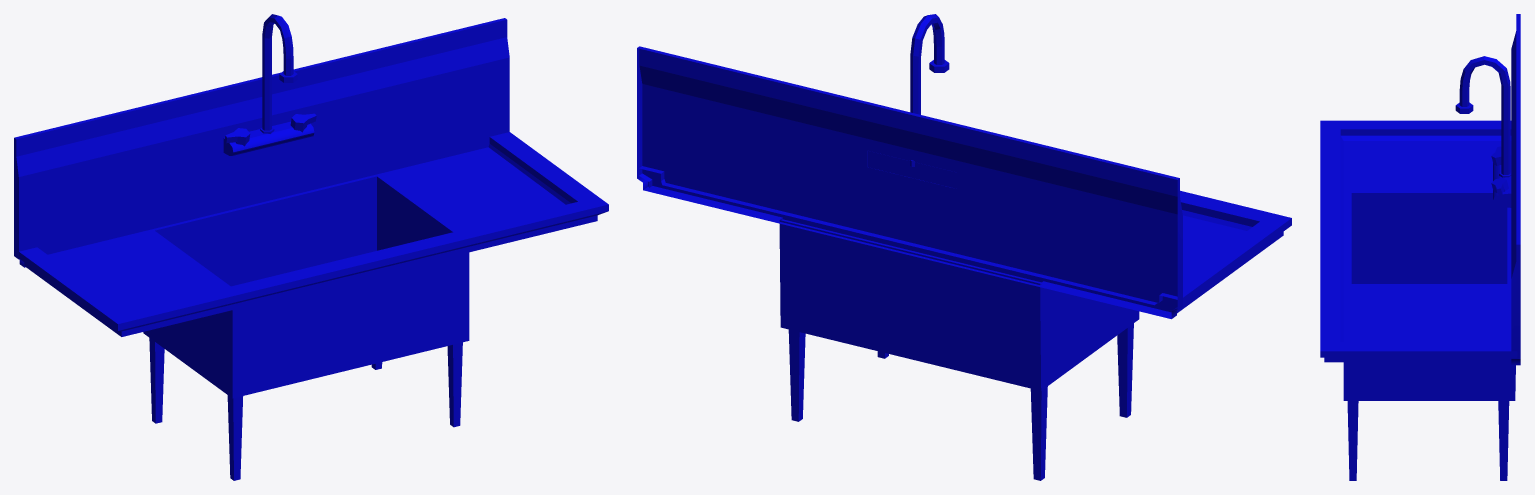
The model's file is SE_Proxy_Sink.fbx.
The picture shows the model from 3 angles, left to right: view 1: azimuth 30°, elevation 25°; view 2: azimuth 150°, elevation 25°; view 3: azimuth 270°, elevation 25°; orthographic projection. The views are drawn at different scales.
Visible parts, largest first — view 1: SE_Proxy_Sink; view 2: SE_Proxy_Sink; view 3: SE_Proxy_Sink.
Boxes of the visible parts, left/top/right/bottom form: SE_Proxy_Sink: left=14, top=14, right=608, bottom=480; SE_Proxy_Sink: left=637, top=14, right=1291, bottom=480; SE_Proxy_Sink: left=1320, top=14, right=1520, bottom=480.
Size of the model in its own units: 5088 by 3826 by 1864.
